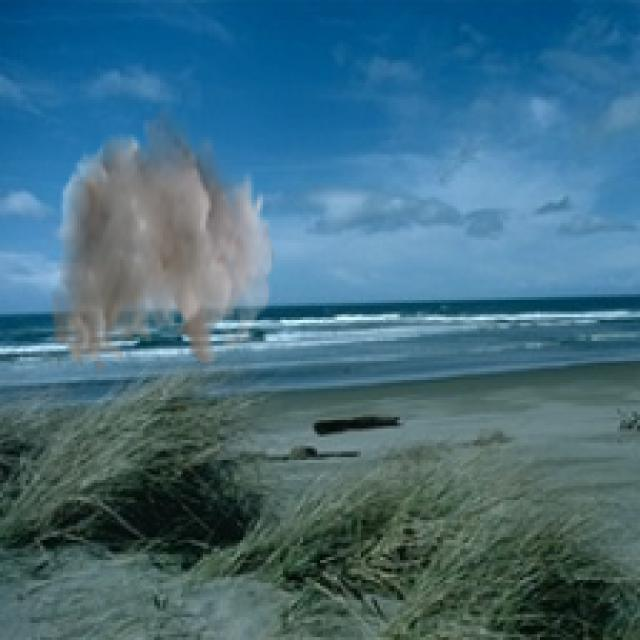smoke: (49, 100, 274, 374)
